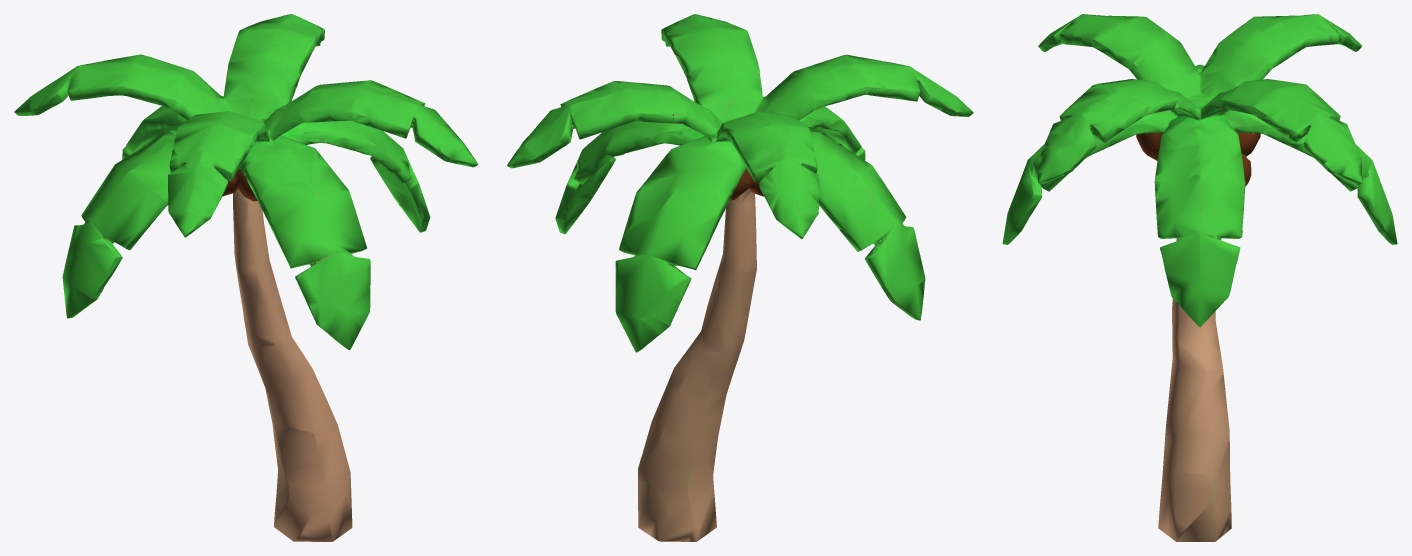
Rendered from palm.glb.
The picture shows the model from 3 angles, left to right: view 1: azimuth 30°, elevation 25°; view 2: azimuth 150°, elevation 25°; view 3: azimuth 270°, elevation 25°; orthographic projection. The views are drawn at different scales.
Parts seen in each view (by area): view 1: Mesh_0; view 2: Mesh_0; view 3: Mesh_0.
Boxes of the visible parts, box(x1,y1,x2,y2) form: Mesh_0: box(14, 14, 478, 541); Mesh_0: box(507, 14, 973, 541); Mesh_0: box(1002, 14, 1397, 541).
Size of the model in its own units: 1.54 by 1.91 by 1.54.
1 material, 1 textured.
